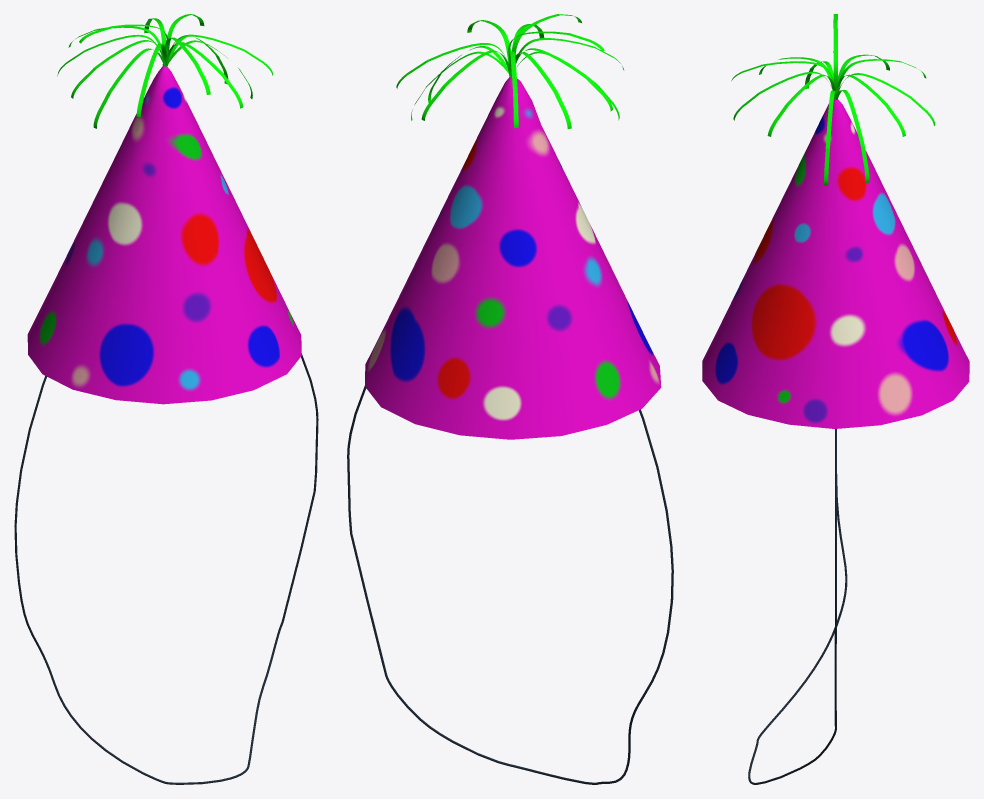
The model's file is Party Hat Package.obj.
The picture shows the model from 3 angles, left to right: view 1: azimuth 30°, elevation 25°; view 2: azimuth 150°, elevation 25°; view 3: azimuth 270°, elevation 25°; orthographic projection. The views are drawn at different scales.
Parts seen in each view (by area): view 1: Figure 1; view 2: Figure 1; view 3: Figure 1.
Part boxes in pixels (left/top/right/bottom): Figure 1: left=14, top=14, right=318, bottom=784; Figure 1: left=347, top=14, right=673, bottom=784; Figure 1: left=702, top=14, right=969, bottom=784.
Size of the model in its own units: 16.02 by 37.2 by 12.53.
Materials: 3 (3 with a texture image).
